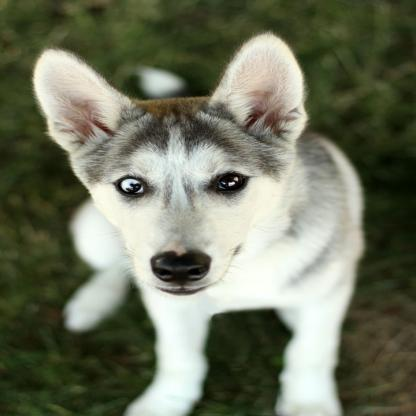dog: (21, 31, 361, 416)
